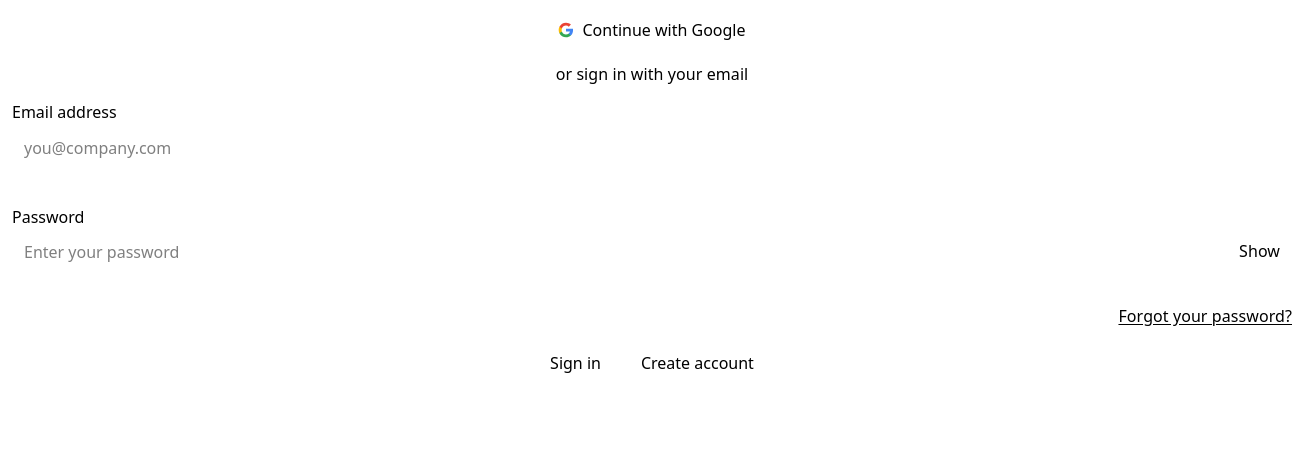
it: AuthForm password reset request › signup still enforces the 6-character minimum
Click the button "Create account".
click(697, 363)  # box left=627, top=345, right=768, bottom=381
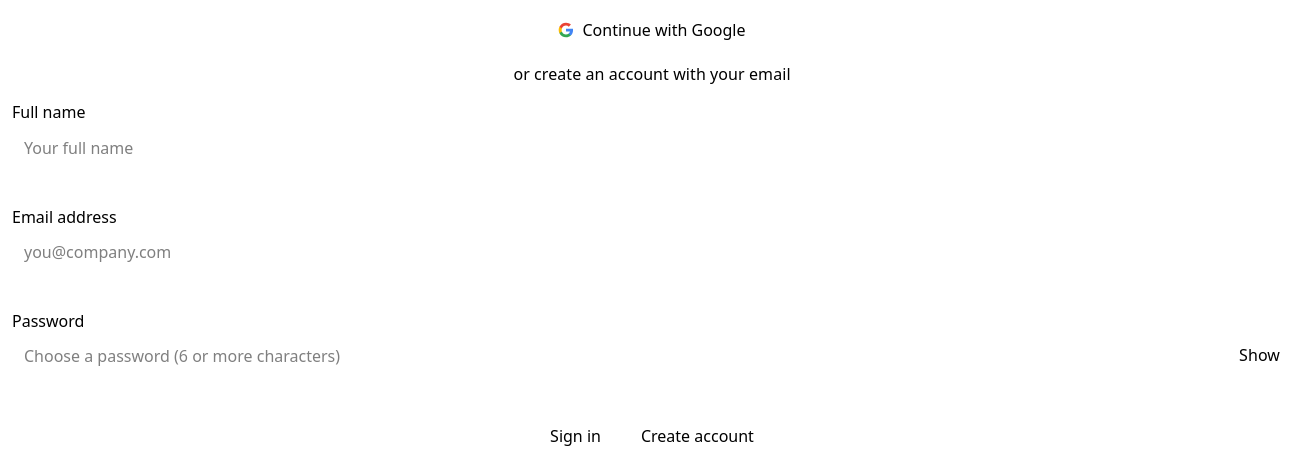
Type "Rudo Moyo" into the field with placeholder "Your full name".
click(652, 148); type("Rudo Moyo")  # box left=12, top=130, right=1292, bottom=166
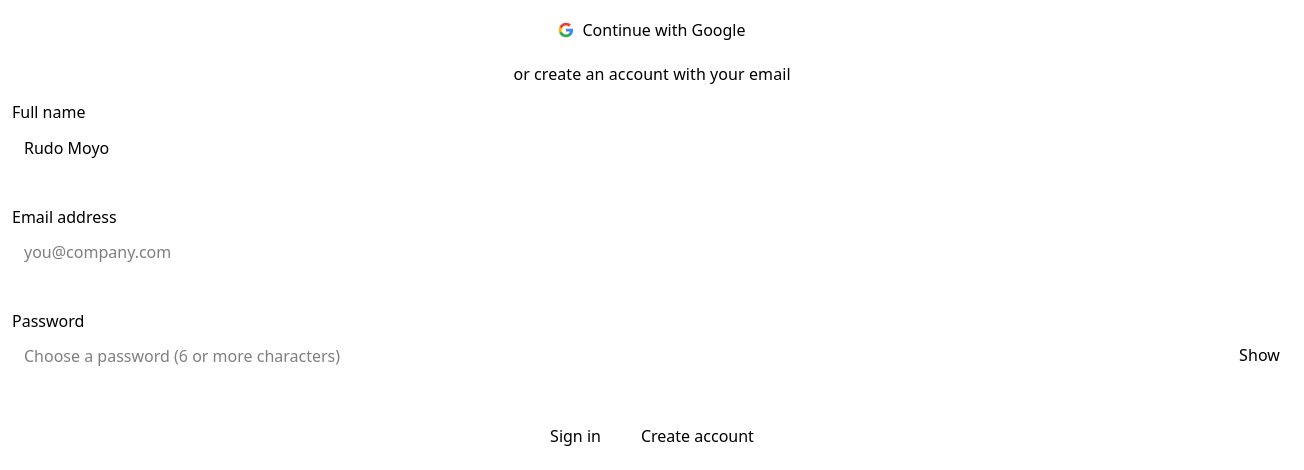
Type "a@x.com" into the field with placeholder "you@company.com".
click(652, 252); type("a@x.com")  # box left=12, top=234, right=1292, bottom=270
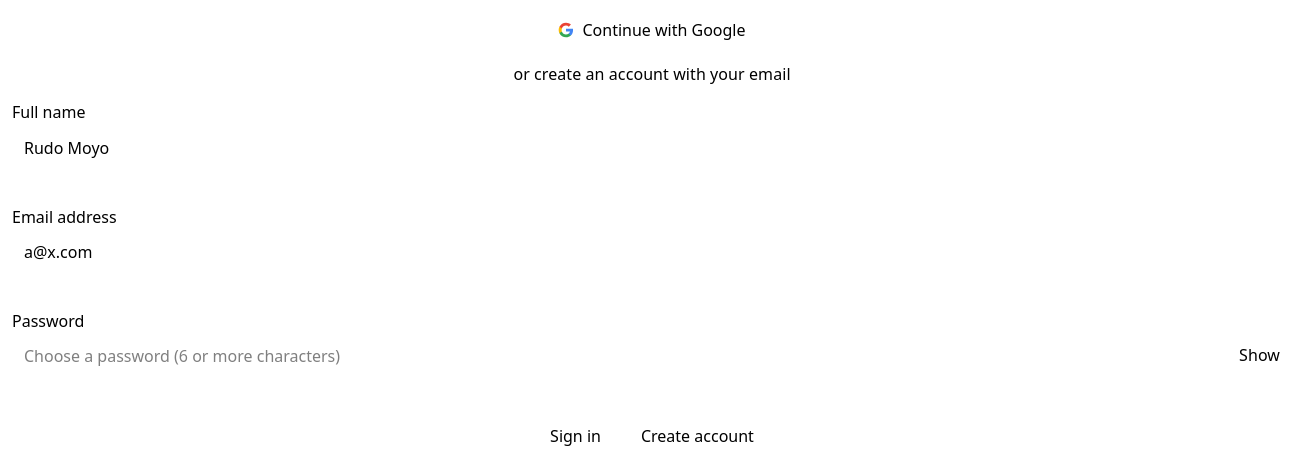
Type "abc" into the password field with placeholder "Choose a password (6 or more characters)".
click(652, 356); type("abc")  # box left=12, top=338, right=1292, bottom=374
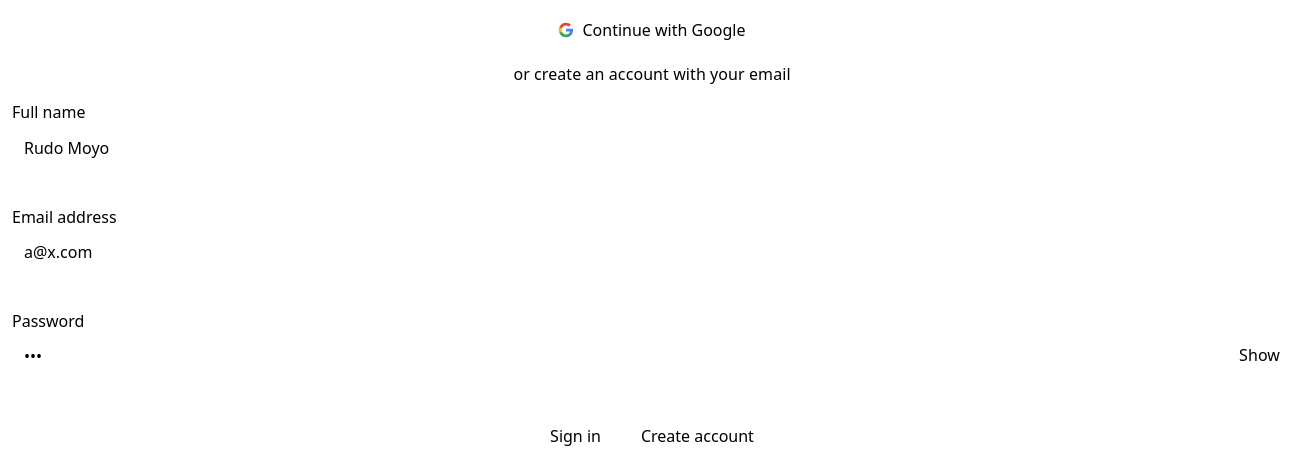
Click the button "Create account".
click(697, 436)  # box left=627, top=418, right=768, bottom=454
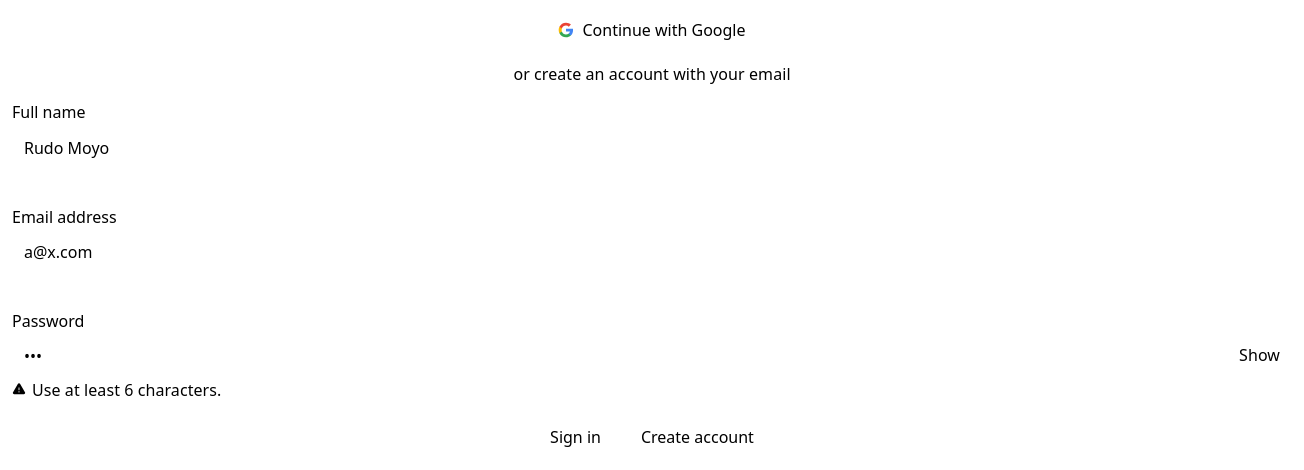
Expected: the text "Use at least 6 characters." is shown, left=32, top=380, right=221, bottom=401
